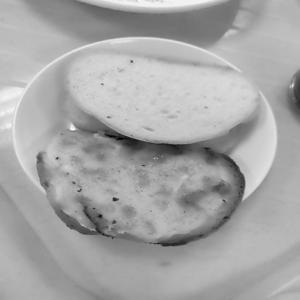bread: (44, 52, 267, 148)
cheese_sandwich: (30, 132, 255, 239)
